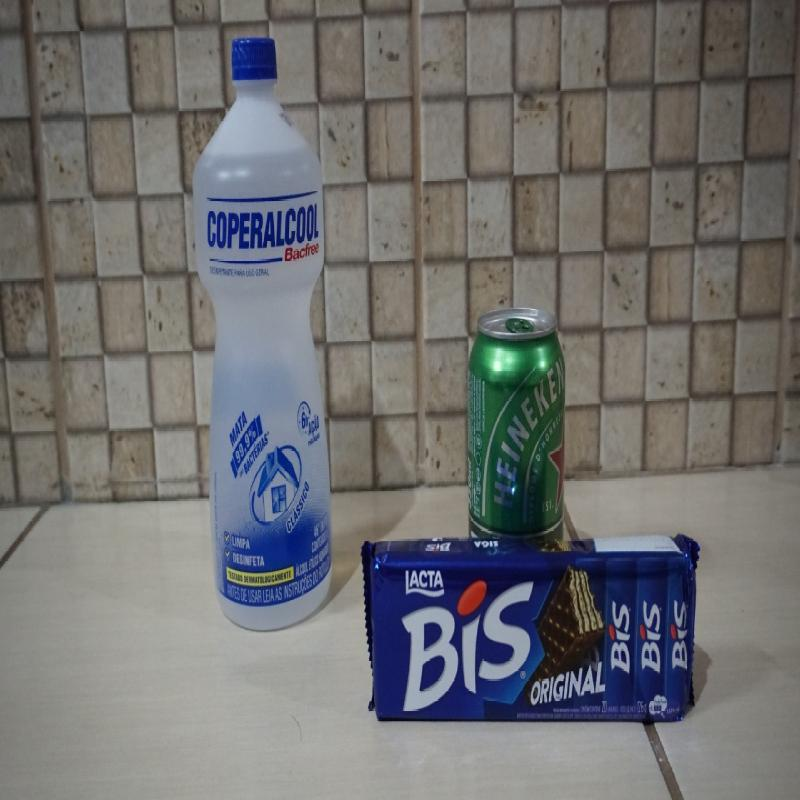Alcohol Bottle: (193, 34, 334, 628)
Beer can: (467, 310, 569, 539)
